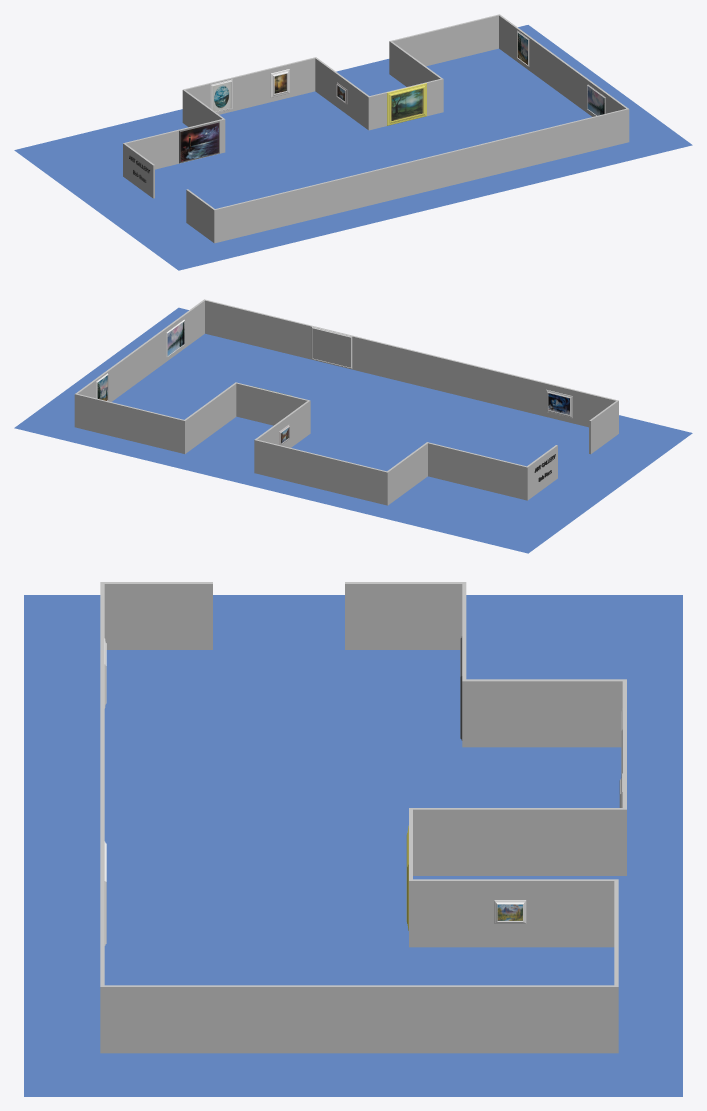
The picture shows the model from 3 angles, top to bottom: view 1: azimuth 30°, elevation 25°; view 2: azimuth 150°, elevation 25°; view 3: azimuth 270°, elevation 25°; orthographic projection. The views are drawn at different scales.
Parts seen in each view (by area): view 1: Plane001, Walls, Tavla008, Tavla006, Tavla005, Tavla004, Tavla009; view 2: Plane001, Walls, Tavla, Tavla007, Tavla009; view 3: Plane001, Walls, Tavla002.
Part boxes in pixels (x1=…): Plane001: x1=14, y1=25, x2=692, y2=270; Walls: x1=123, y1=14, x2=629, y2=243; Tavla008: x1=179, y1=121, x2=219, y2=163; Tavla006: x1=387, y1=83, x2=426, y2=125; Tavla005: x1=210, y1=79, x2=232, y2=112; Tavla004: x1=270, y1=69, x2=289, y2=97; Tavla009: x1=587, y1=84, x2=605, y2=115; Plane001: x1=14, y1=307, x2=692, y2=553; Walls: x1=74, y1=299, x2=618, y2=505; Tavla: x1=311, y1=326, x2=352, y2=368; Tavla007: x1=546, y1=389, x2=572, y2=418; Tavla009: x1=166, y1=319, x2=184, y2=357; Plane001: x1=24, y1=595, x2=682, y2=1096; Walls: x1=100, y1=582, x2=626, y2=1053; Tavla002: x1=494, y1=900, x2=526, y2=923.
Bounding box in the file's own units: 33.65 × 2.08 × 18.66.
